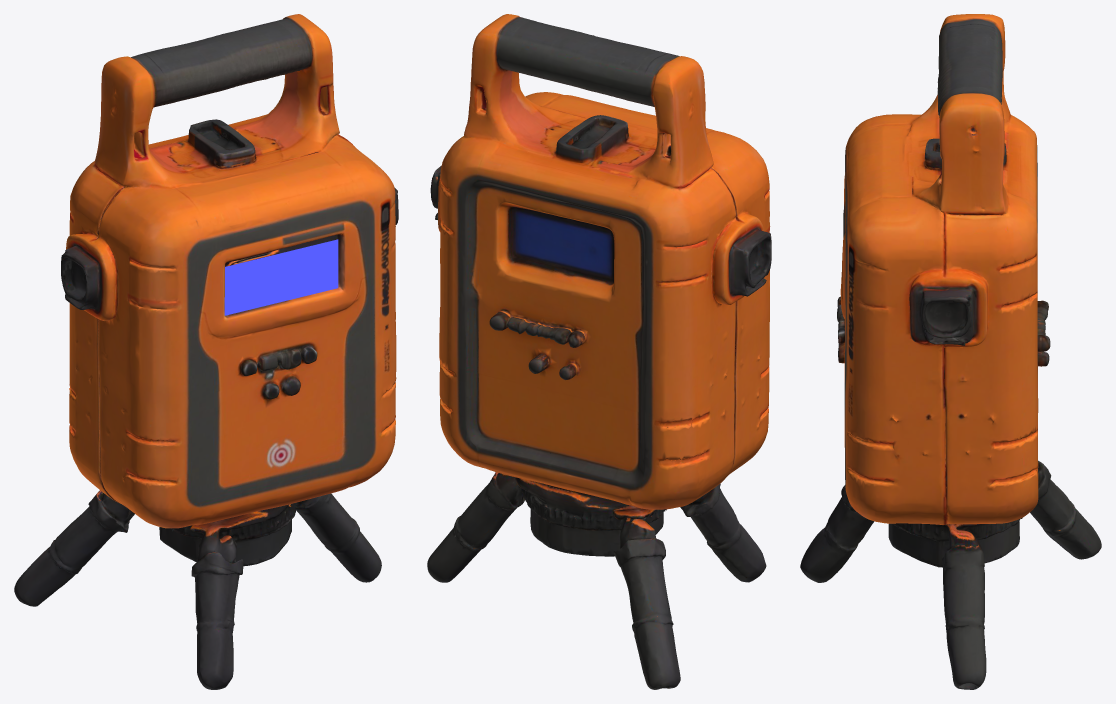
The model's file is flag.glb.
3 renders of one model, left to right at view 1: azimuth 30°, elevation 25°; view 2: azimuth 150°, elevation 25°; view 3: azimuth 270°, elevation 25°, orthographic. The views are drawn at different scales.
Visible parts, largest first — view 1: Mesh1, Plane; view 2: Mesh1; view 3: Mesh1.
Part boxes in pixels (x1,y1,x2,y2): Mesh1: (14, 14, 398, 689); Plane: (224, 239, 338, 315); Mesh1: (427, 14, 771, 689); Mesh1: (800, 14, 1101, 689).
Bounding box in the file's own units: 1.16 × 2 × 0.9693.
Materials: 2 (1 with a texture image).
